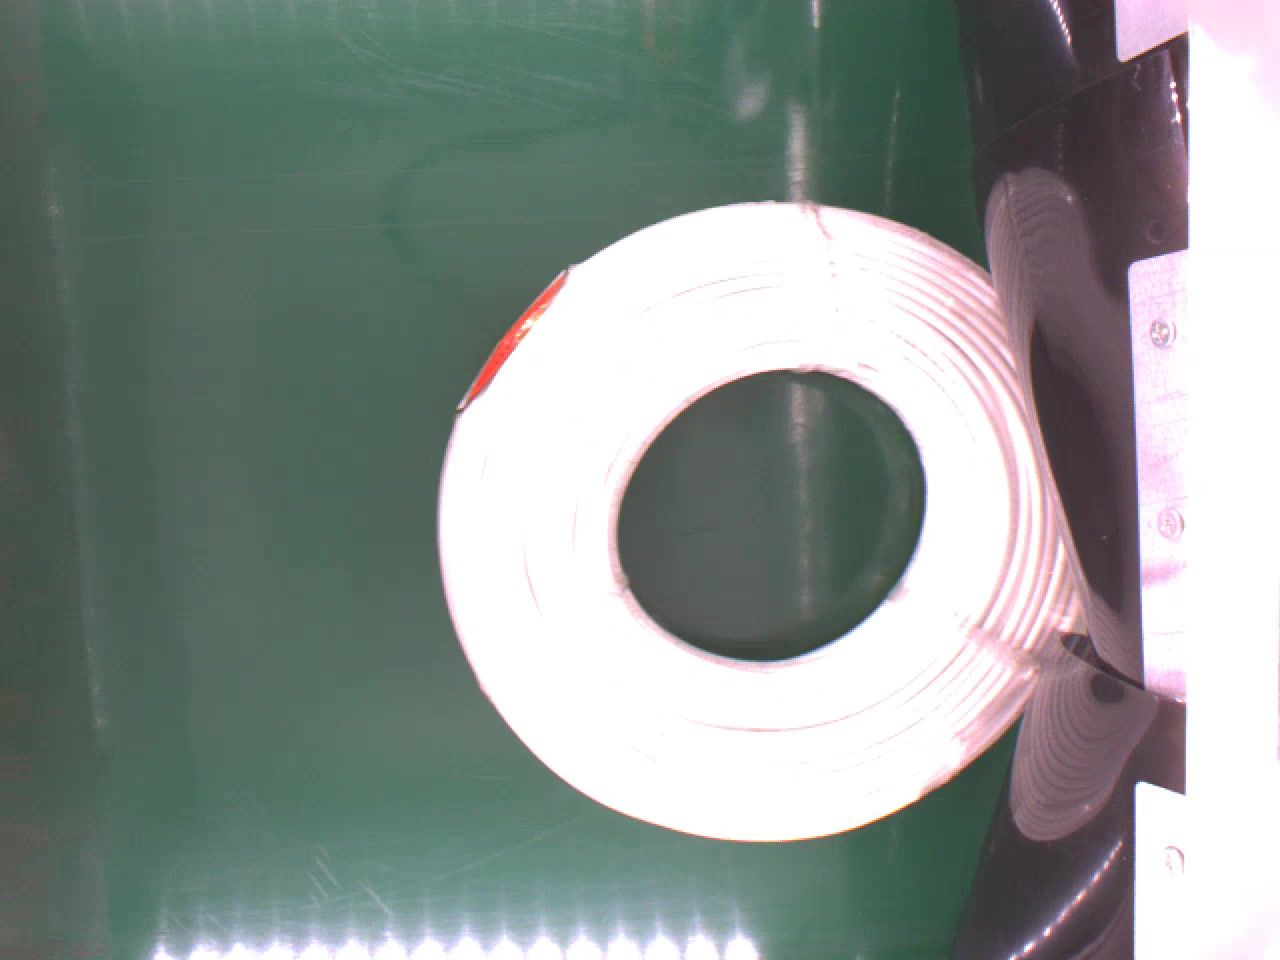white: (432, 198, 1085, 857)
